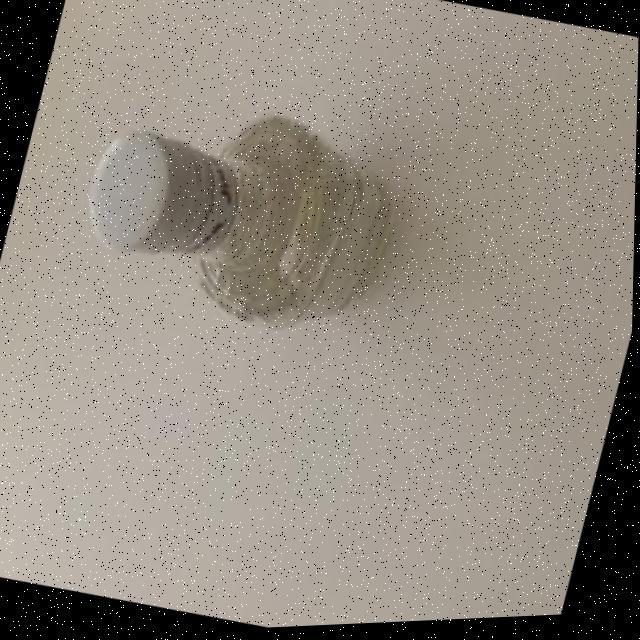glass: (59, 68, 433, 371)
